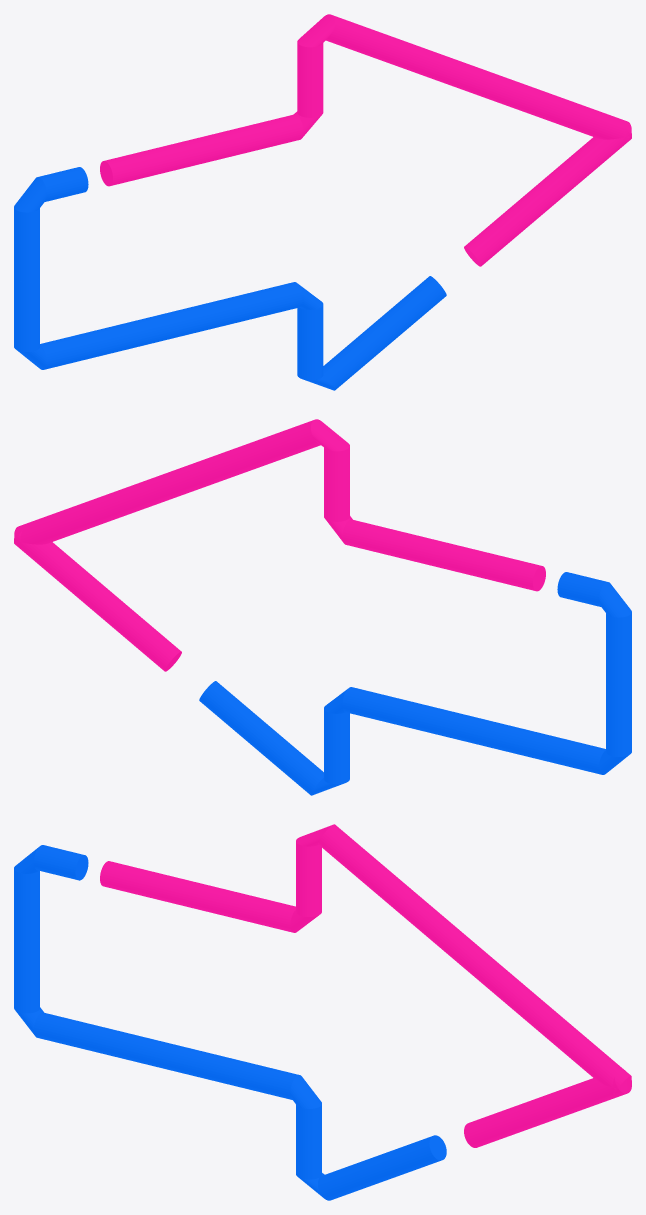
Rendered from neon.glb.
3 views of the same model, one above another, from view 1: azimuth 30°, elevation 25°; view 2: azimuth 150°, elevation 25°; view 3: azimuth 330°, elevation 25° (orthographic).
Visible parts, largest first — view 1: Cylinder.001, Cylinder.002; view 2: Cylinder.001, Cylinder.002; view 3: Cylinder.001, Cylinder.002.
Boxes of the visible parts, box(x1,y1,x2,y2) form: Cylinder.001: box(100, 14, 631, 266); Cylinder.002: box(14, 167, 446, 390); Cylinder.001: box(14, 419, 545, 671); Cylinder.002: box(199, 572, 631, 795); Cylinder.001: box(100, 824, 631, 1147); Cylinder.002: box(14, 845, 446, 1200).
Size of the model in its own units: 54.11 by 31.56 by 2.1.
